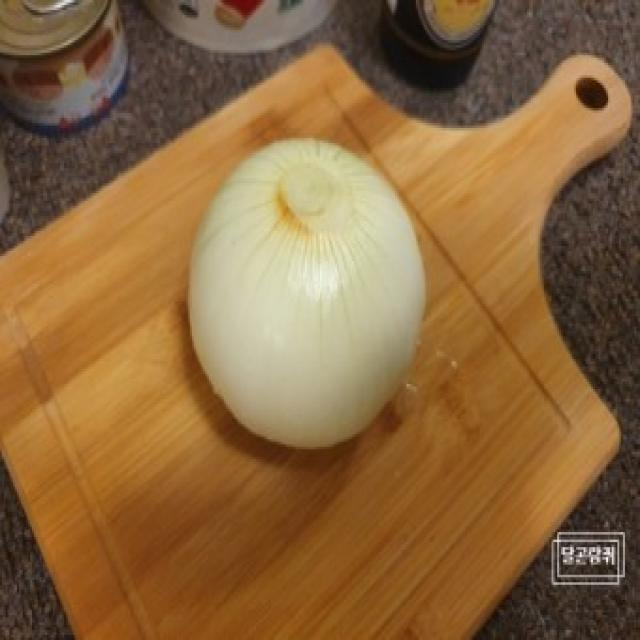onion: (159, 124, 442, 460)
